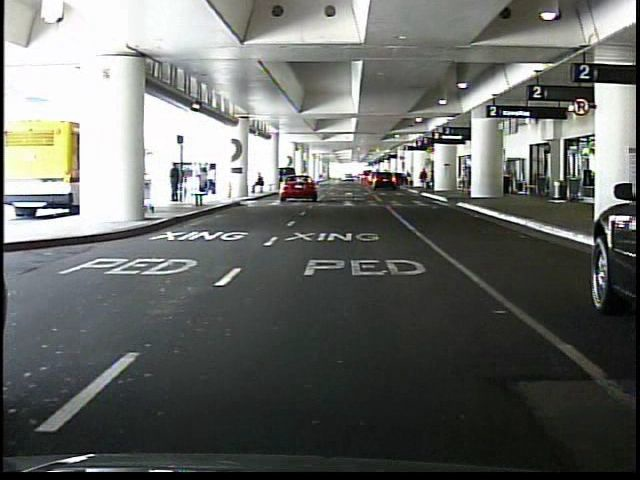person: (169, 162, 184, 205), (458, 165, 471, 196), (251, 172, 266, 196), (419, 167, 429, 192)
